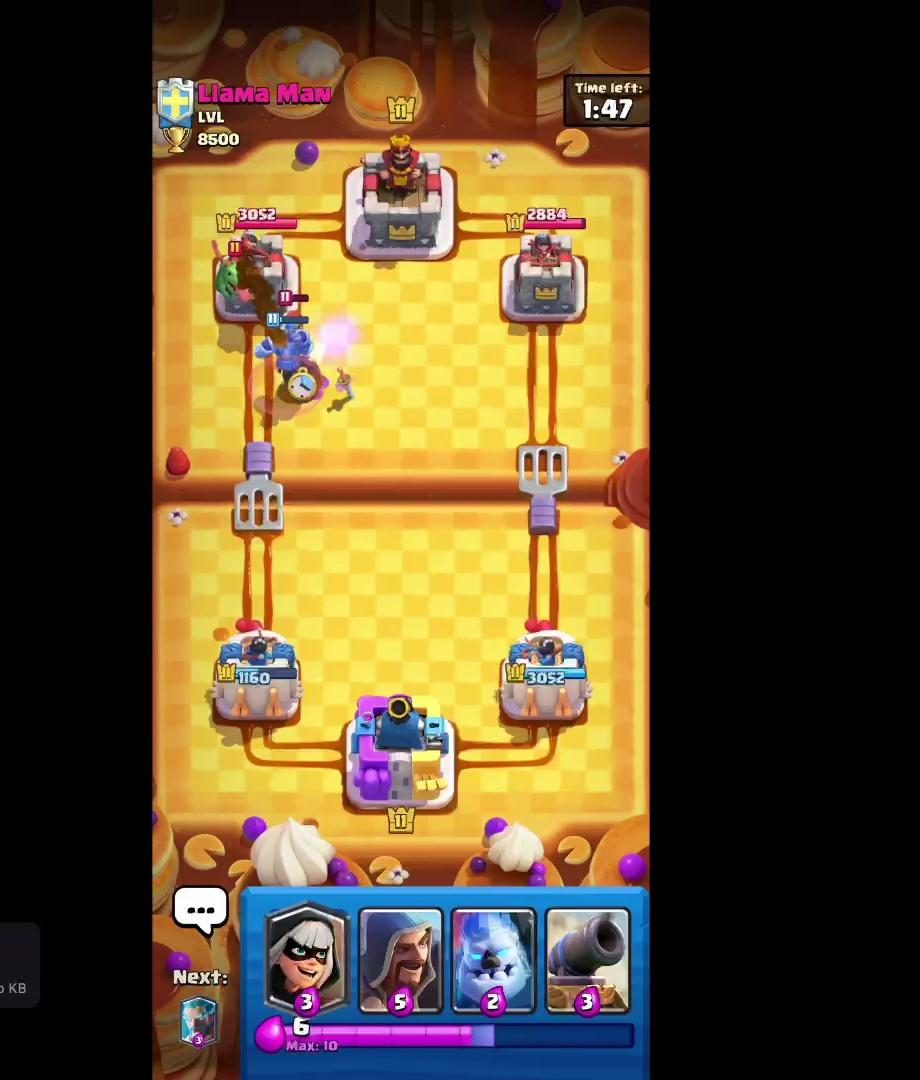Baby Dragon: (207, 237, 261, 305)
